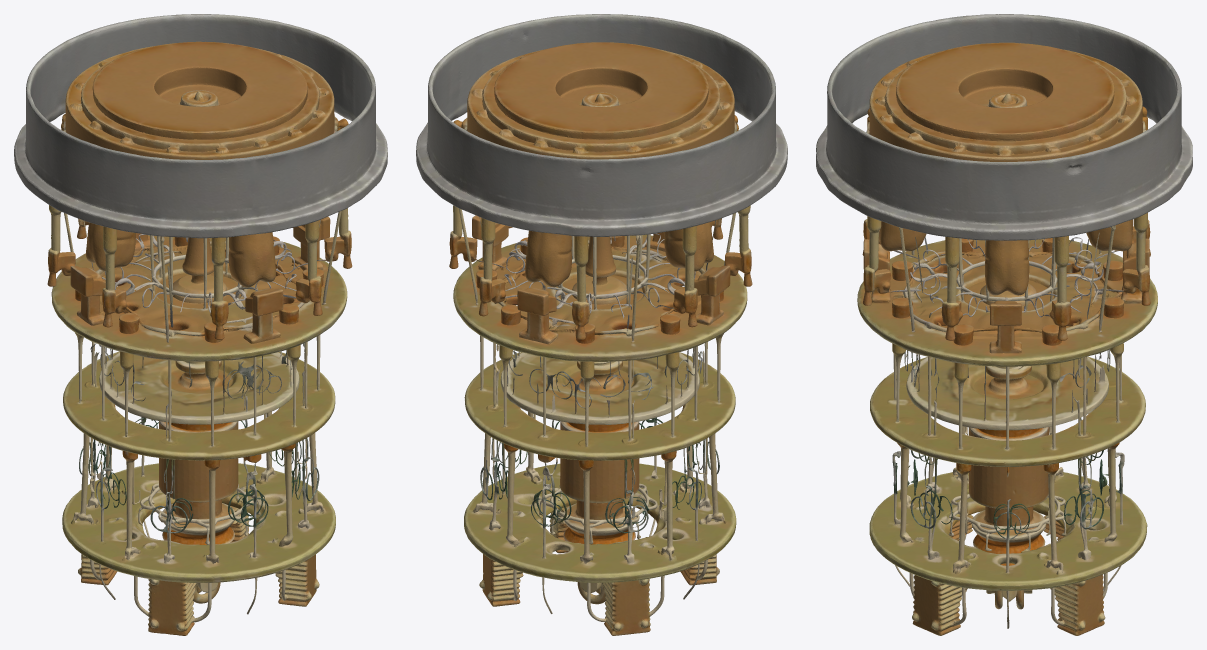
Rendered from quantum-computer.glb.
3 views of the same model, side by side, from view 1: azimuth 30°, elevation 25°; view 2: azimuth 150°, elevation 25°; view 3: azimuth 270°, elevation 25° (orthographic).
Visible parts, largest first — view 1: tripo_node_70cccd7a-4a48-49c5-961f-2f2694b51268; view 2: tripo_node_70cccd7a-4a48-49c5-961f-2f2694b51268; view 3: tripo_node_70cccd7a-4a48-49c5-961f-2f2694b51268.
Boxes of the visible parts, x1=… form: tripo_node_70cccd7a-4a48-49c5-961f-2f2694b51268: x1=14, y1=14, x2=387, y2=635; tripo_node_70cccd7a-4a48-49c5-961f-2f2694b51268: x1=416, y1=14, x2=787, y2=635; tripo_node_70cccd7a-4a48-49c5-961f-2f2694b51268: x1=816, y1=14, x2=1192, y2=635.
Bounding box in the file's own units: 0.6595 × 1 × 0.6582.
1 material, 1 textured.
